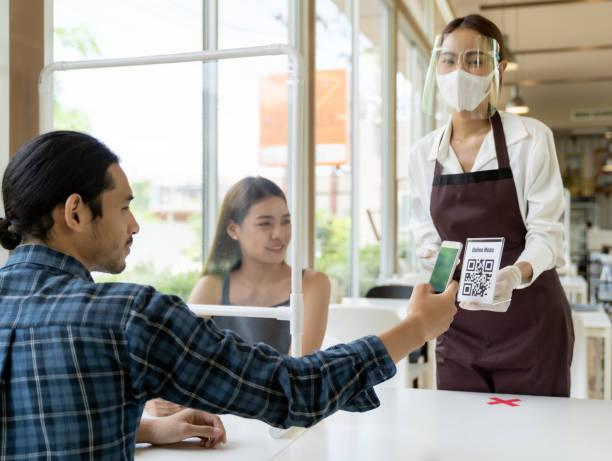Finder pattern: (458, 282, 474, 296), (483, 258, 495, 275), (465, 258, 477, 272)
